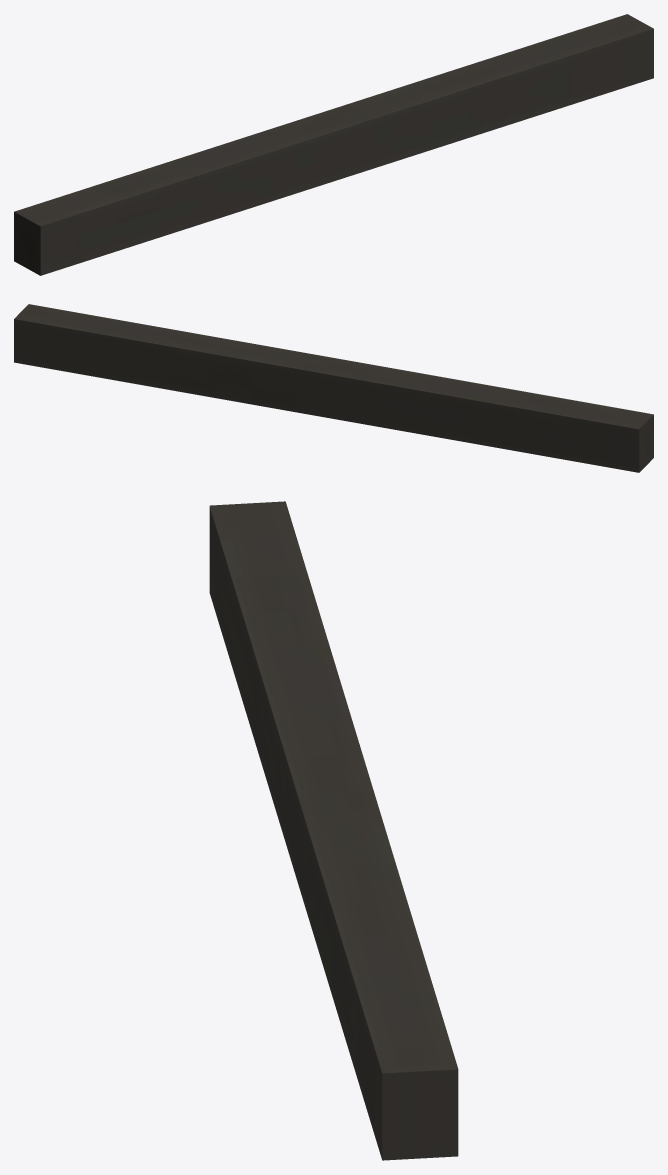
Rendered from frame__lower_rail_neg.glb.
The picture shows the model from 3 angles, top to bottom: view 1: azimuth 30°, elevation 25°; view 2: azimuth 150°, elevation 25°; view 3: azimuth 270°, elevation 25°; orthographic projection. The views are drawn at different scales.
Visible parts, largest first — view 1: world; view 2: world; view 3: world.
Boxes of the visible parts, x1,y1,x2,y2 form: world: (14,14,653,275); world: (14,304,653,472); world: (209,501,458,1160).
Size of the model in its own units: 0.7051 by 0.05 by 0.1297.
Materials: 1 (1 with a texture image).
